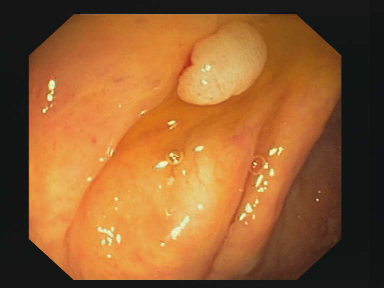polyp: (168, 20, 283, 105)
